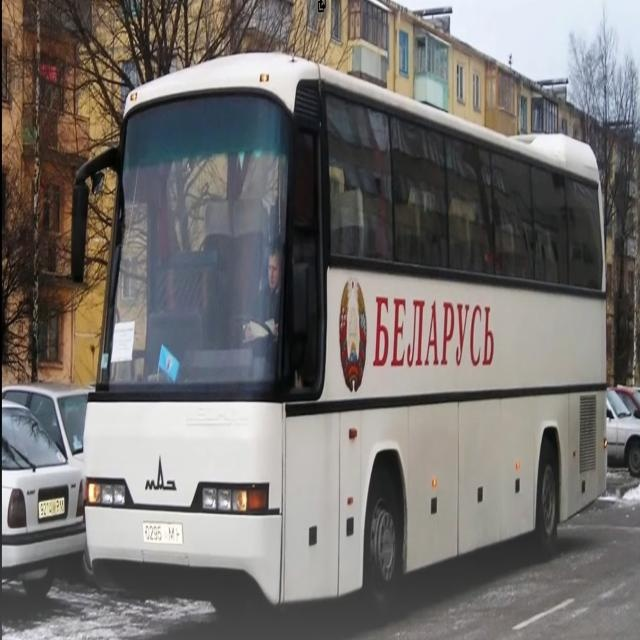Bus: (69, 47, 614, 626)
